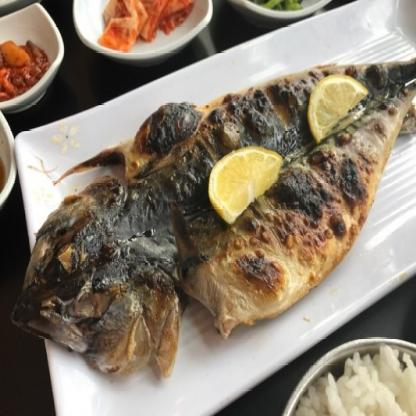Peixe: (0, 39, 416, 395)
